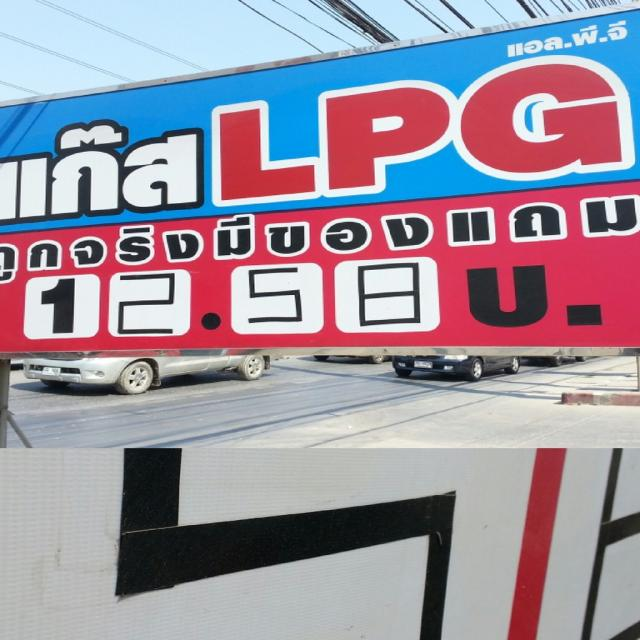other: (17, 336, 268, 388), (393, 355, 521, 382), (315, 354, 393, 366), (522, 357, 585, 367)
